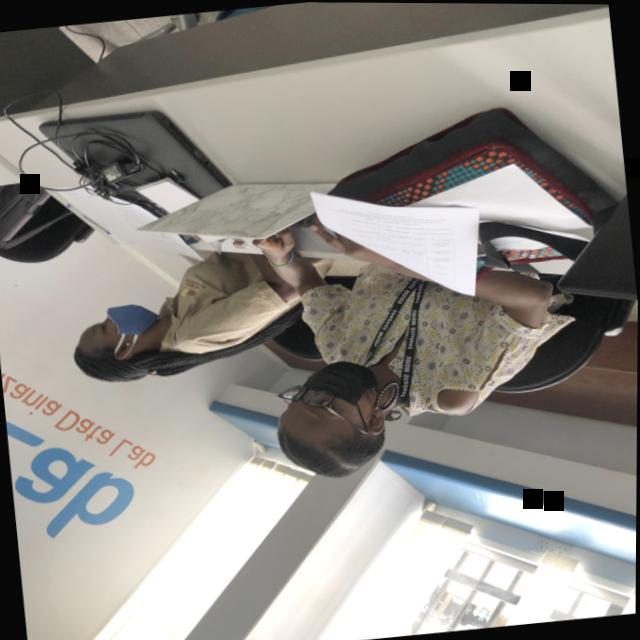Mask: (270, 359, 382, 443), (74, 302, 158, 359)
